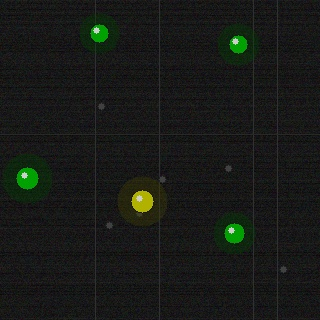green_normal: (14, 165, 40, 191), (222, 221, 246, 245), (88, 22, 110, 44), (227, 33, 249, 55)
yellow_warning: (129, 188, 155, 214)
